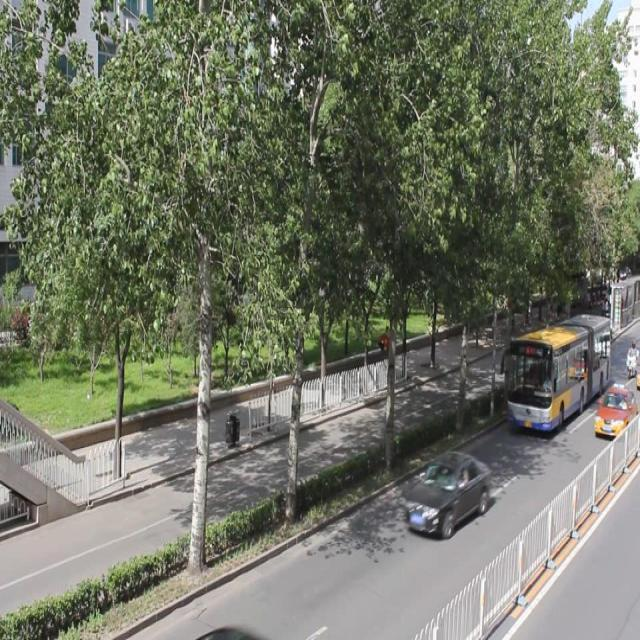car: (403, 450, 490, 537), (593, 384, 640, 436)
van: (505, 316, 610, 429)
